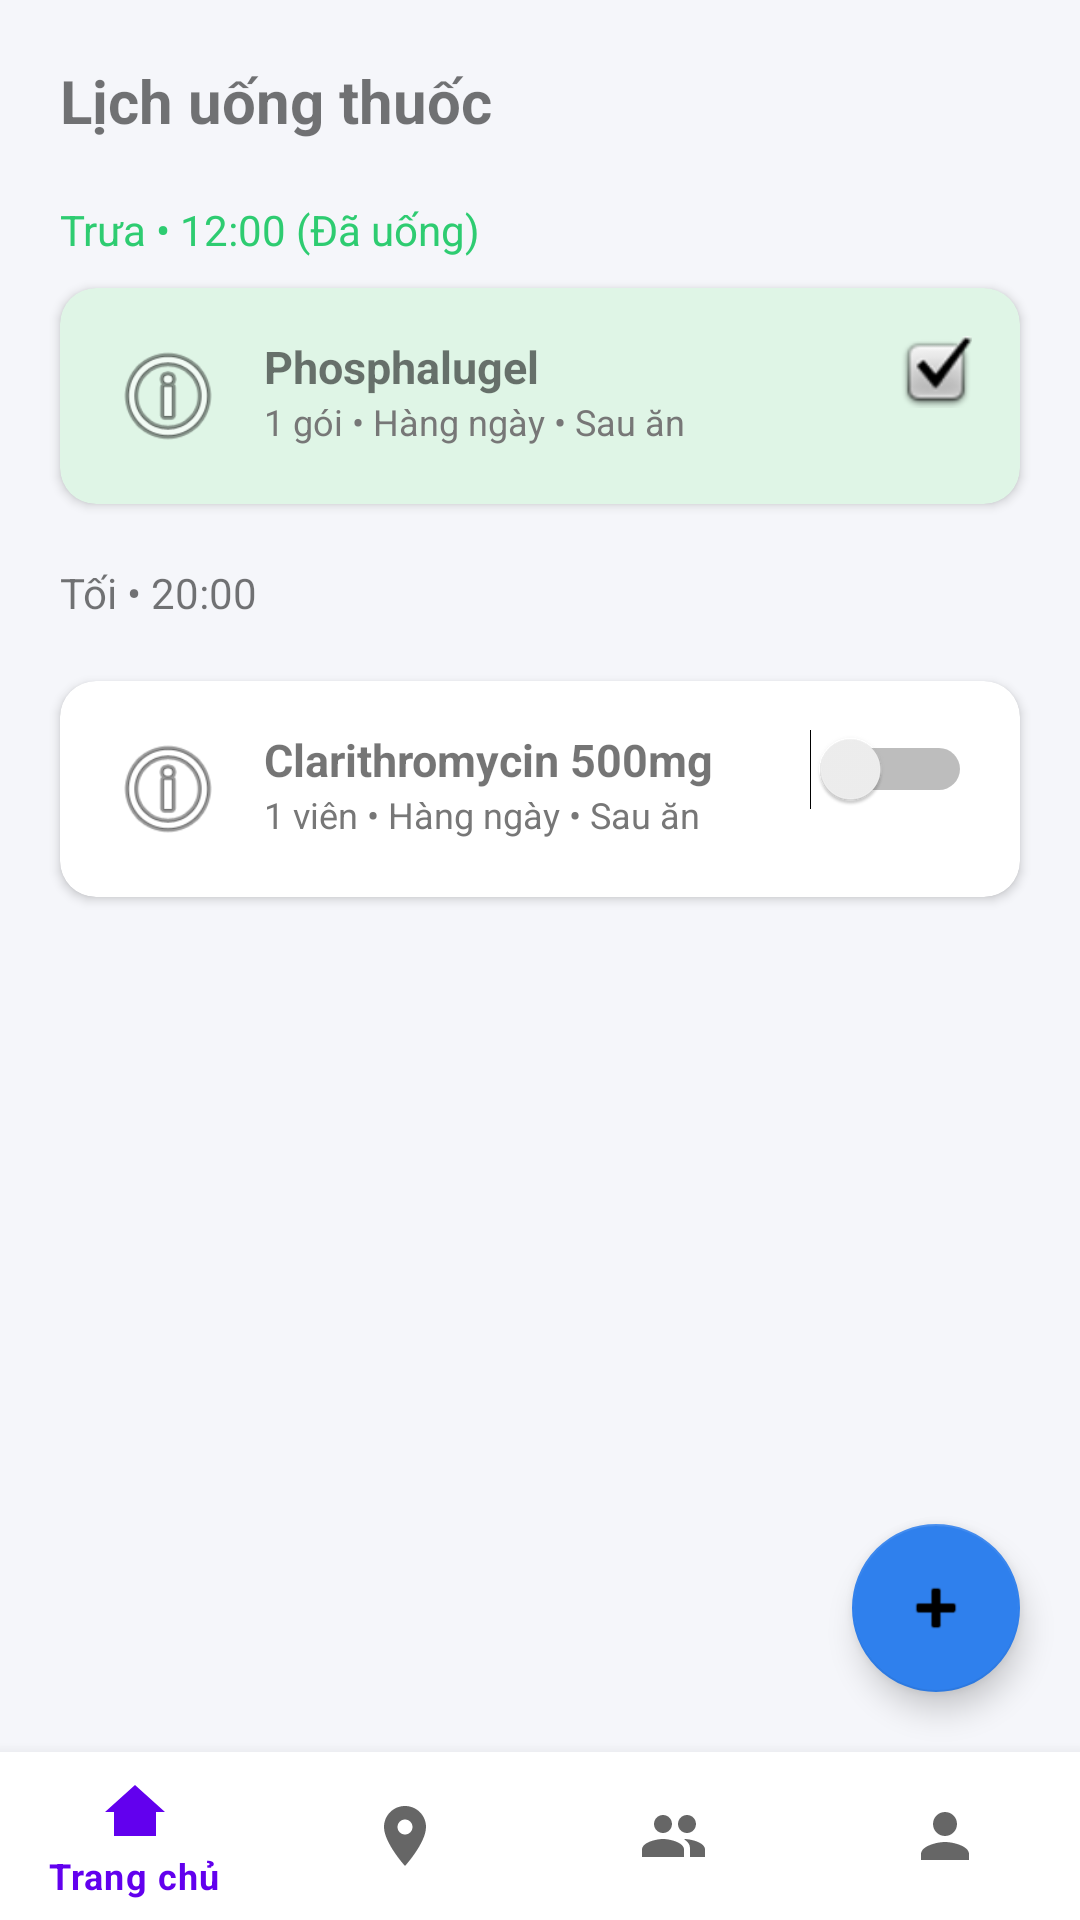

Icon bounding boxes for this 1080px x 1920px phone screenshot, format (x1, y1, x2, y2):
add: (852, 1524, 1020, 1692)
info details: (125, 353, 211, 439), (125, 746, 211, 832)
